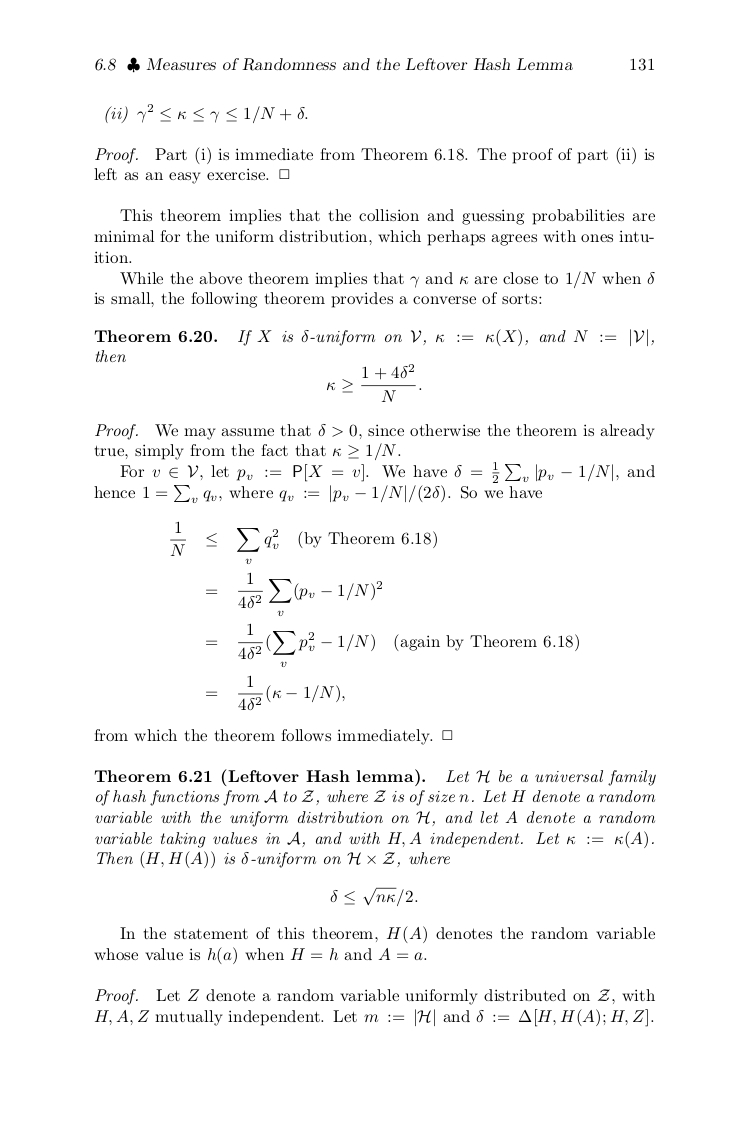formula: (206, 622, 578, 660), (170, 520, 436, 556), (206, 571, 381, 609), (206, 674, 344, 711), (105, 102, 307, 124), (327, 364, 421, 401), (330, 886, 417, 907)
